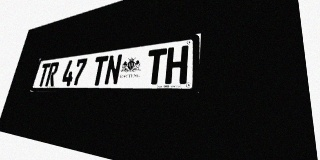4: (61, 60, 77, 86)
7: (71, 58, 88, 86)
H: (165, 45, 189, 84)
N: (103, 54, 123, 85)
R: (45, 62, 60, 86)
T: (145, 48, 167, 85), (90, 55, 109, 86), (37, 63, 51, 86)
